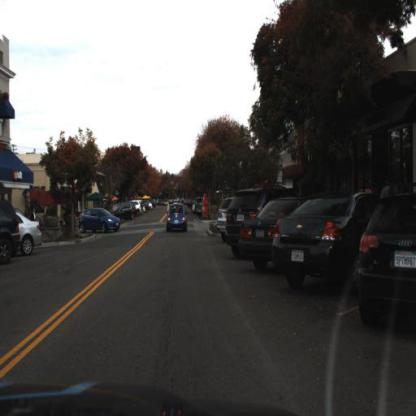car: (271, 189, 358, 296), (356, 183, 416, 337), (236, 200, 275, 272), (223, 185, 246, 255), (1, 197, 22, 273), (74, 206, 122, 237), (14, 210, 42, 262), (165, 201, 191, 237), (114, 199, 137, 224)
pedestrian: (32, 205, 37, 225)
